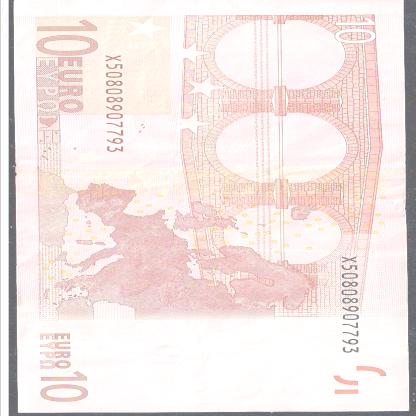euro_banknote: (7, 13, 416, 404)
